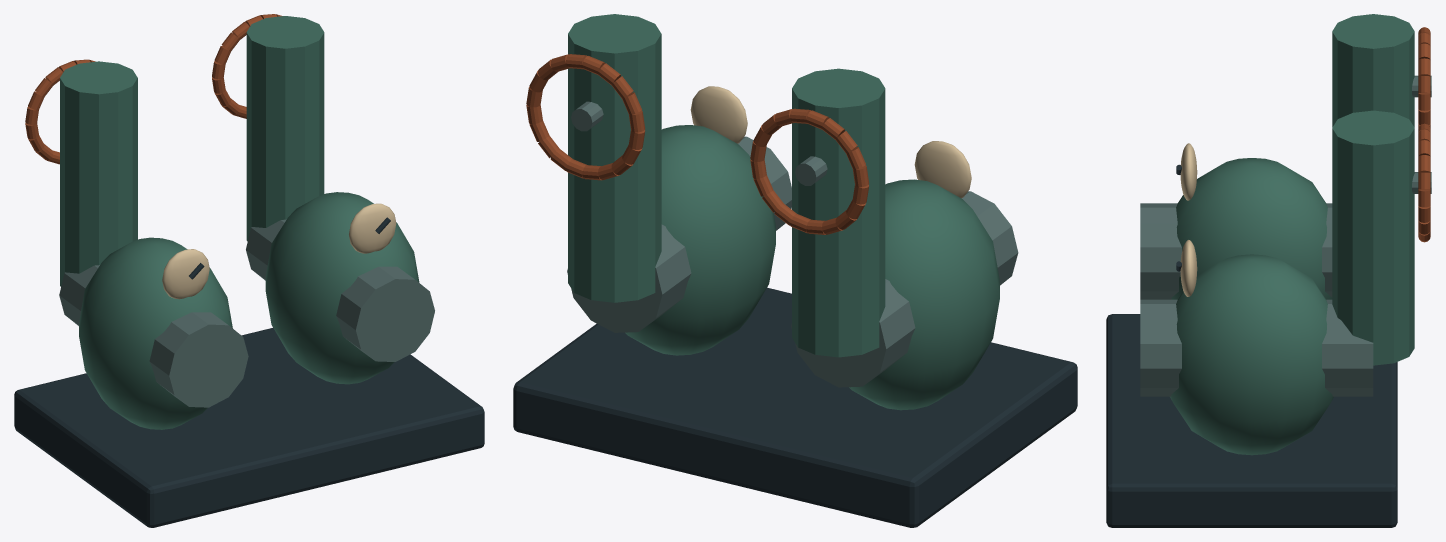
File: pump.glb
The picture shows the model from 3 angles, left to right: view 1: azimuth 30°, elevation 25°; view 2: azimuth 150°, elevation 25°; view 3: azimuth 270°, elevation 25°; orthographic projection. The views are drawn at different scales.
Visible parts, largest first — view 1: pump; view 2: pump; view 3: pump.
Boxes of the visible parts, x1=… form: pump: x1=14, y1=14, x2=484, y2=527; pump: x1=513, y1=14, x2=1077, y2=527; pump: x1=1106, y1=14, x2=1431, y2=527.
Bounding box in the file's own units: 1.7 × 1.65 × 1.34.
